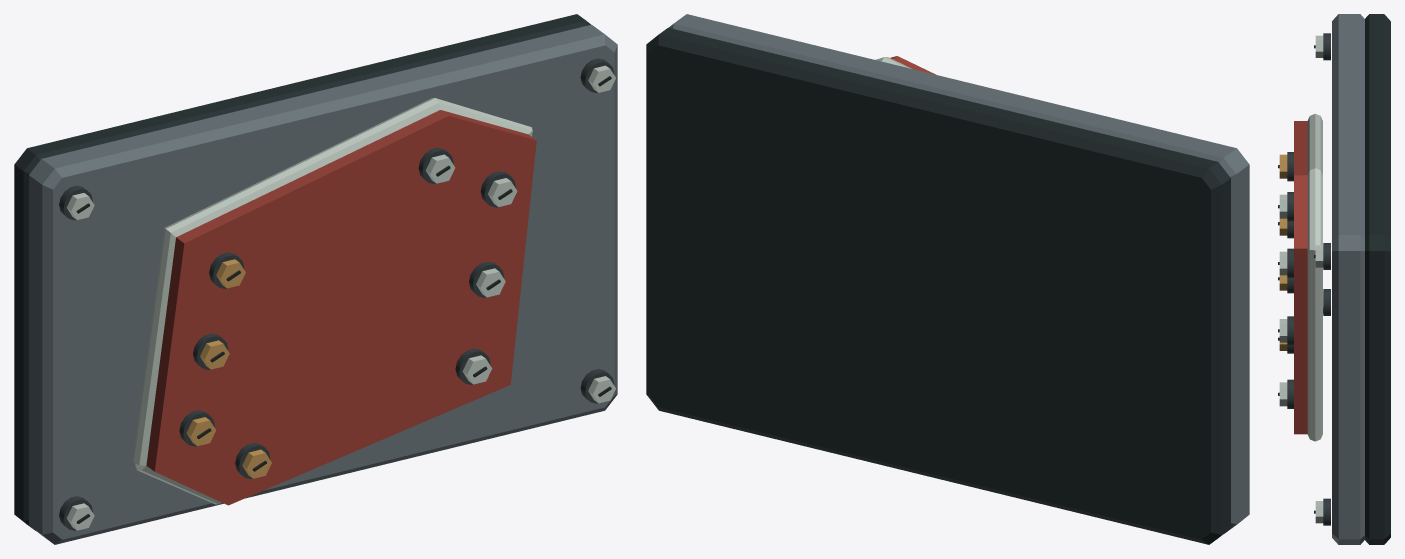
File: crack-repaired.glb
3 views of the same model, side by side, from view 1: azimuth 30°, elevation 25°; view 2: azimuth 150°, elevation 25°; view 3: azimuth 270°, elevation 25° (orthographic). The views are drawn at different scales.
Parts seen in each view (by area): view 1: RB_crack_repaired; view 2: RB_crack_repaired; view 3: RB_crack_repaired.
Part boxes in pixels (x1=…): RB_crack_repaired: x1=14, y1=14, x2=617, y2=544; RB_crack_repaired: x1=646, y1=14, x2=1249, y2=544; RB_crack_repaired: x1=1278, y1=14, x2=1390, y2=544.
Bounding box in the file's own units: 0.64 × 0.4 × 0.132.
